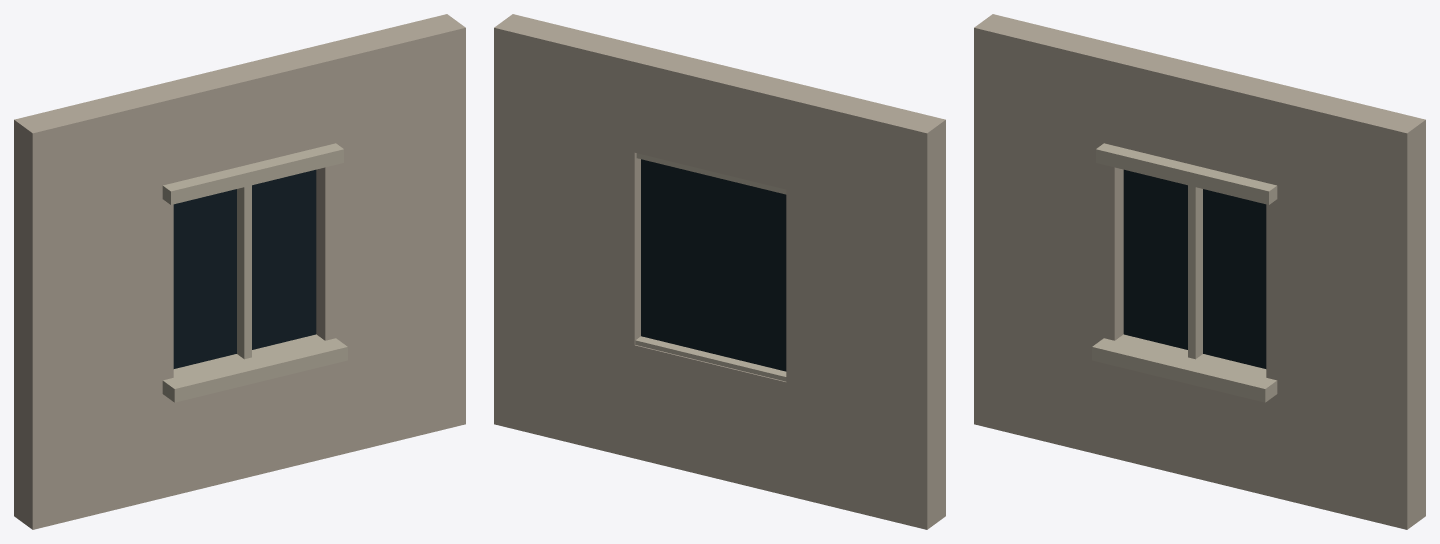
Rendered from facade.glb.
3 renders of one model, left to right at view 1: azimuth 30°, elevation 25°; view 2: azimuth 150°, elevation 25°; view 3: azimuth 330°, elevation 25°, orthographic.
Visible parts, largest first — view 1: left_pier, right_pier, window, above_window, below_window, sill, head, mullion; view 2: left_pier, right_pier, window, below_window, above_window, sill, head; view 3: right_pier, left_pier, window, above_window, below_window, sill, head, mullion.
Boxes of the visible parts, x1,y1,x2,y2 form: left_pier: (14,85,173,529); right_pier: (307,14,465,458); window: (173,169,316,368); above_window: (155,48,325,182); below_window: (173,366,325,495); sill: (162,334,347,402); head: (162,143,343,204); mullion: (237,185,251,359); left_pier: (786,85,945,529); right_pier: (494,14,652,458); window: (641,159,786,371); below_window: (634,345,786,495); above_window: (634,48,804,189); sill: (635,336,786,381); head: (636,153,786,194); right_pier: (1266,85,1425,529); left_pier: (974,14,1132,458); window: (1123,169,1266,368); above_window: (1114,48,1284,182); below_window: (1114,366,1266,495); sill: (1092,334,1277,402); head: (1096,143,1277,204); mullion: (1188,185,1202,359).
Bounding box in the file's own units: 4 × 3.5 × 0.49.
